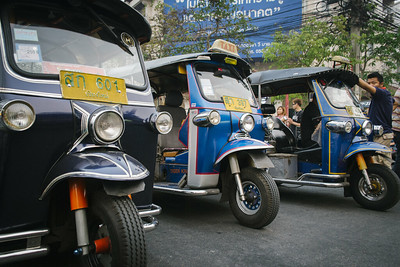threewheel: (1, 1, 172, 267), (137, 40, 281, 229), (248, 55, 400, 212)
